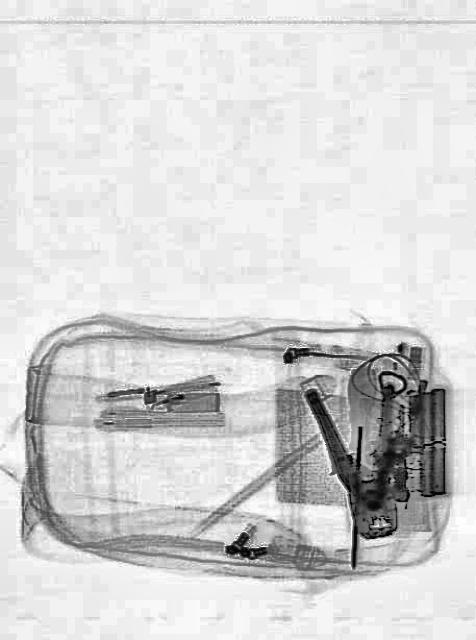Pliers: (302, 368, 416, 548)
